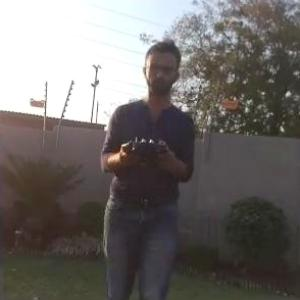follow: (93, 30, 200, 299)
